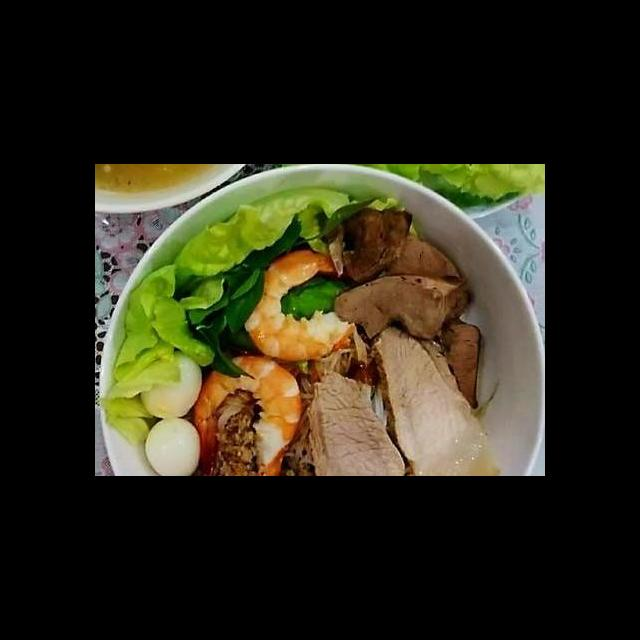gan: (330, 269, 471, 347), (317, 202, 416, 286), (433, 314, 486, 413), (377, 235, 465, 286)
thit heo: (366, 319, 505, 476), (304, 361, 410, 476)
tom: (237, 247, 369, 364), (189, 351, 305, 476)
trung: (135, 349, 205, 421), (141, 414, 204, 476)
